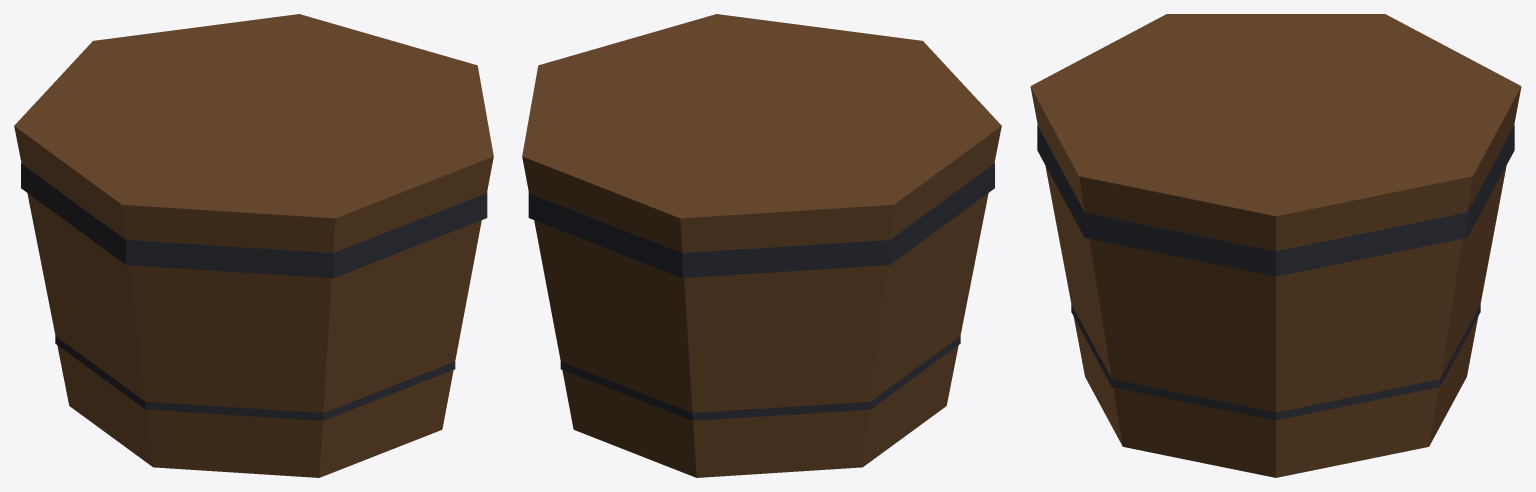
The model's file is bucket_wood.fbx.
The picture shows the model from 3 angles, left to right: view 1: azimuth 30°, elevation 25°; view 2: azimuth 150°, elevation 25°; view 3: azimuth 270°, elevation 25°; orthographic projection.
Visible parts, largest first — view 1: bucket_wood; view 2: bucket_wood; view 3: bucket_wood.
Part boxes in pixels (x1,y1,x2,y2): bucket_wood: [14, 14, 493, 477]; bucket_wood: [522, 14, 1001, 477]; bucket_wood: [1030, 14, 1521, 477].
Size of the model in its own units: 0.6843 by 0.45 by 0.7019.
